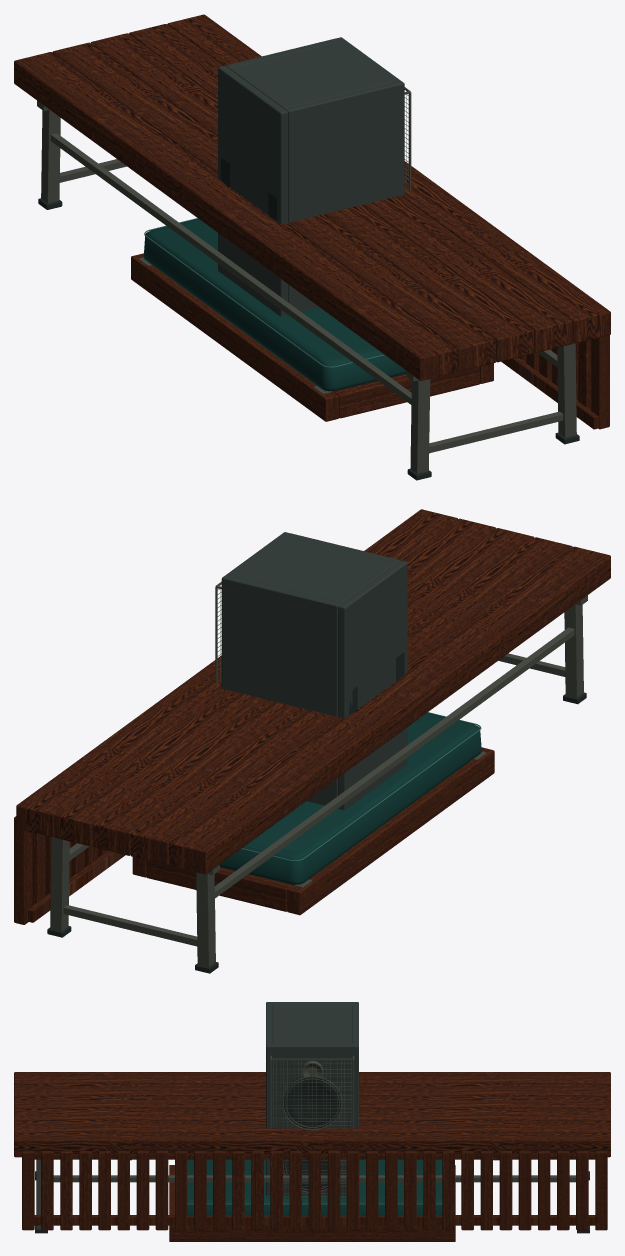
The model's file is furniture.glb.
3 renders of one model, top to bottom at view 1: azimuth 30°, elevation 25°; view 2: azimuth 150°, elevation 25°; view 3: azimuth 270°, elevation 25°, orthographic. The views are drawn at different scales.
Parts seen in each view (by area): view 1: console_material_0, speaker_material_0, console_material_1, lounger_material_2, lounger_material_0; view 2: console_material_0, speaker_material_0, console_material_1, lounger_material_2, lounger_material_0; view 3: console_material_0, speaker_material_0, lounger_material_0, speaker_material_2, lounger_material_2, speaker_material_1, console_material_1.
Boxes of the visible parts, box(x1,y1,x2,y2) form: console_material_0: box(14, 14, 610, 429); speaker_material_0: box(218, 37, 404, 316); console_material_1: box(37, 100, 576, 473); lounger_material_2: box(144, 218, 406, 391); lounger_material_0: box(131, 253, 493, 421); console_material_0: box(14, 509, 610, 924); speaker_material_0: box(221, 532, 407, 810); console_material_1: box(50, 595, 587, 967); lounger_material_2: box(220, 712, 481, 884); lounger_material_0: box(132, 747, 494, 915); console_material_0: box(14, 1072, 610, 1230); speaker_material_0: box(266, 1002, 358, 1195); lounger_material_0: box(169, 1165, 455, 1241); speaker_material_2: box(270, 1055, 354, 1198); lounger_material_2: box(187, 1159, 442, 1214); speaker_material_1: box(284, 1075, 340, 1191); console_material_1: box(36, 1159, 575, 1228).
Bounding box in the file's own units: 1.39 × 1.74 × 5.
6 materials, 2 textured.
